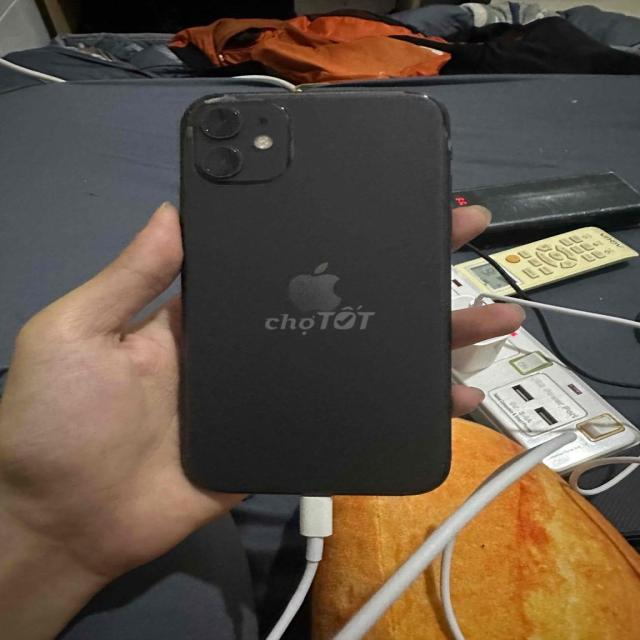gen_11: (172, 73, 469, 503)
